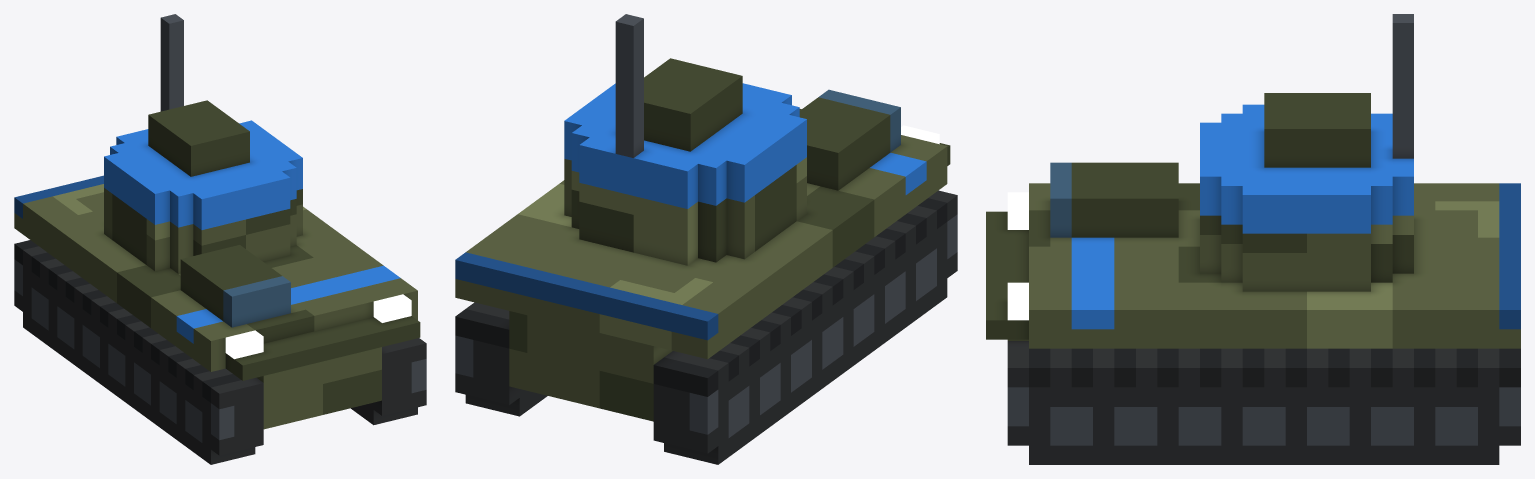
The picture shows the model from 3 angles, left to right: view 1: azimuth 30°, elevation 25°; view 2: azimuth 150°, elevation 25°; view 3: azimuth 270°, elevation 25°; orthographic projection. The views are drawn at different scales.
Visible parts, largest first — view 1: cm_aa_h_1_body; view 2: cm_aa_h_1_body; view 3: cm_aa_h_1_body.
Boxes of the visible parts, left/top/right/bottom form: cm_aa_h_1_body: left=14, top=14, right=426, bottom=464; cm_aa_h_1_body: left=455, top=14, right=957, bottom=464; cm_aa_h_1_body: left=986, top=14, right=1520, bottom=464.
Size of the model in its own units: 0.875 by 1.25 by 1.56.
1 material, 1 textured.
